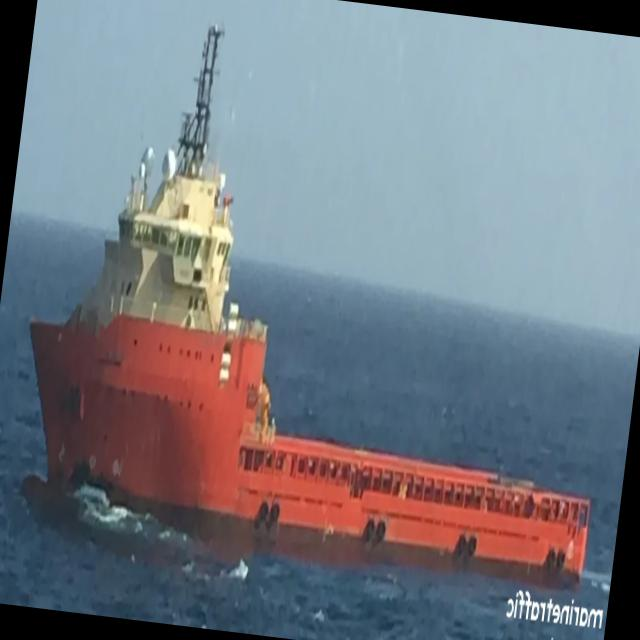Offshore: (30, 27, 591, 586)
